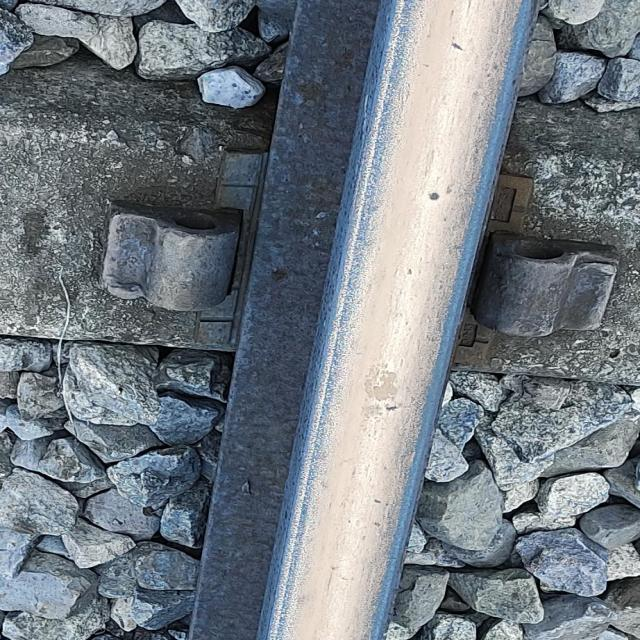Missing Fastener: (89, 191, 258, 361), (496, 200, 629, 365)
